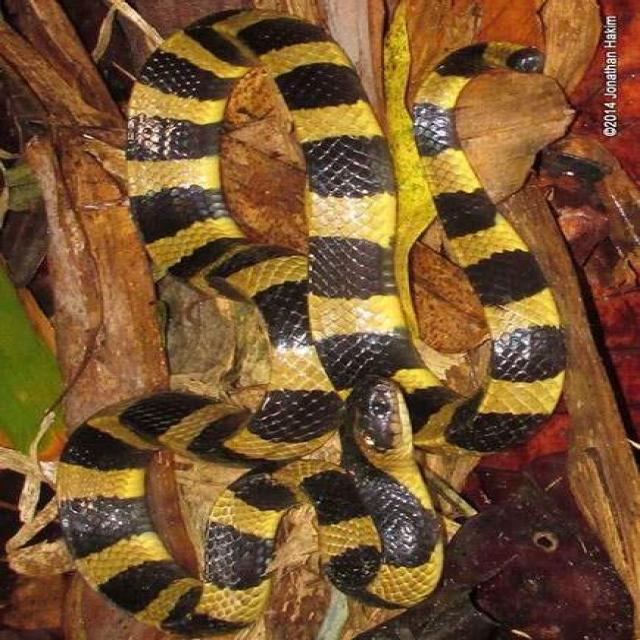Venomous: (334, 380, 443, 535)
